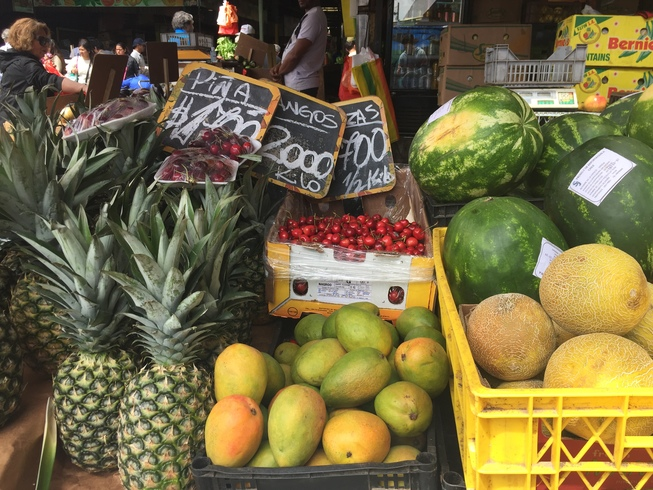precio: (154, 58, 295, 171), (244, 79, 363, 204), (311, 94, 407, 207)
